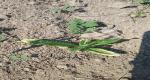bodyak: (20, 38, 124, 56)
